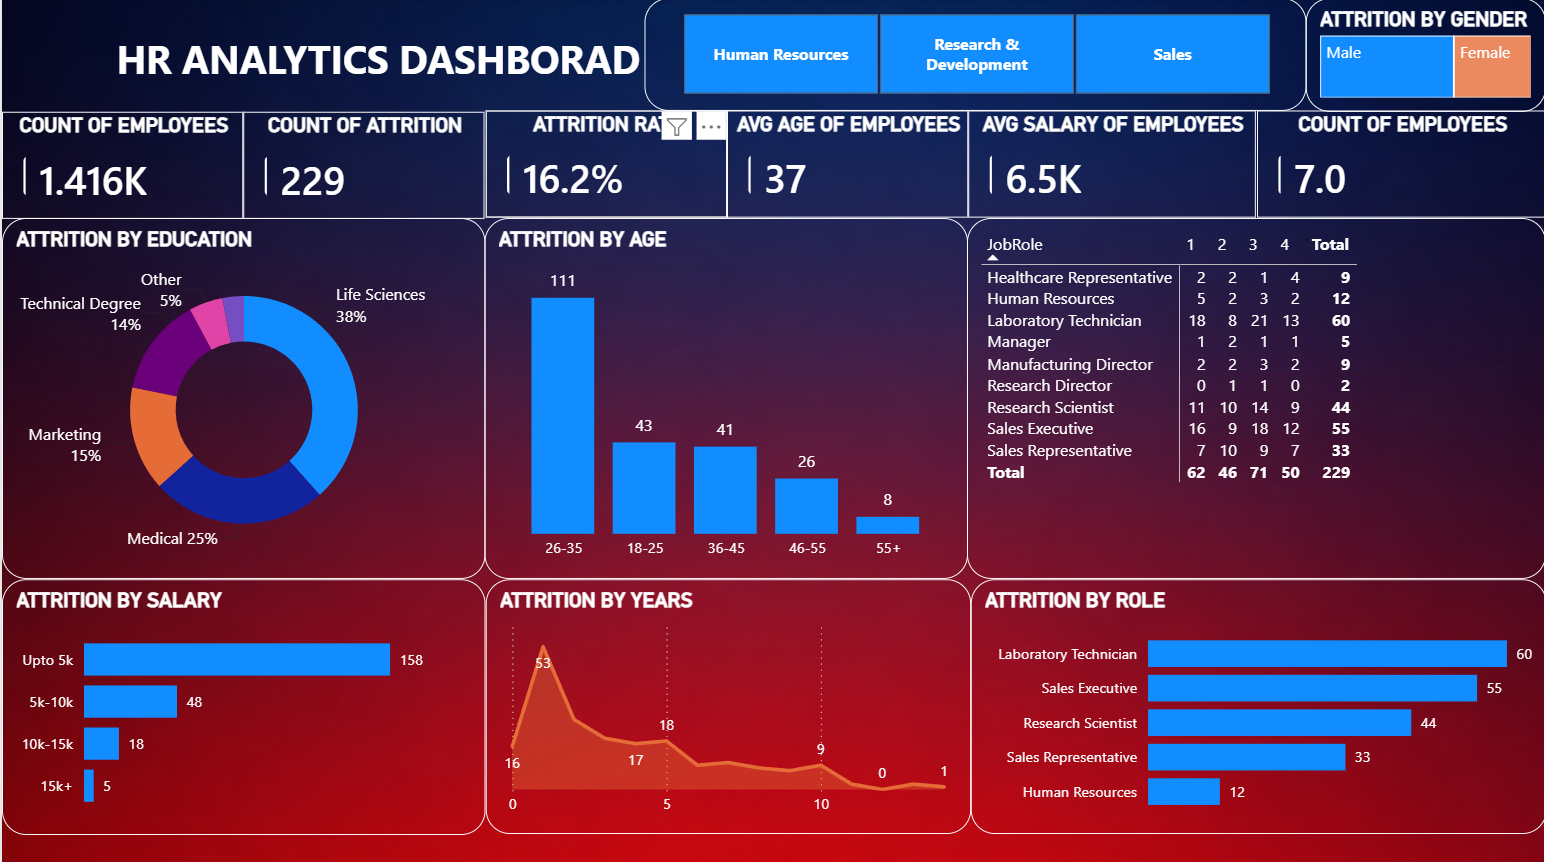

What the dashboard file says about the page in this screenshot:
{"tool":"powerbi","page":{"name":"Page 1","canvas":[1280,720],"ordinal":0},"visuals":[{"type":"cardVisual","title":"COUNT OF EMPLOYEES","fields":{"Data":["CountNonNull(HR_Analytics.EmpID)"]},"box":[0,94.7,200.3,89.2],"z":0},{"type":"cardVisual","title":"COUNT OF ATTRITION","fields":{"Data":["Sum(HR_Analytics.AttritionCount)"]},"box":[200.3,94.7,200.3,89.2],"z":1000},{"type":"cardVisual","title":"ATTRITION RATE","fields":{"Data":["HR_Analytics.AttritionRate"]},"box":[400.7,93.4,200.3,89.2],"z":2000},{"type":"cardVisual","title":"AVG AGE OF EMPLOYEES","fields":{"Data":["Avg(HR_Analytics.Age)"]},"box":[601,93.4,200.3,89.2],"z":3000},{"type":"cardVisual","title":"AVG SALARY OF EMPLOYEES","fields":{"Data":["Avg(HR_Analytics.MonthlyIncome)"]},"box":[801.4,93.4,238.8,89.2],"z":4000},{"type":"cardVisual","title":"COUNT OF EMPLOYEES","fields":{"Data":["Avg(HR_Analytics.YearsAtCompany)"]},"box":[1040.1,93.4,240.1,89.2],"z":5000},{"type":"donutChart","title":"ATTRITION BY EDUCATION","fields":{"Category":["HR_Analytics.EducationField"],"Y":["Sum(HR_Analytics.AttritionCount)"]},"box":[0,182.8,401.2,298.8],"z":6000},{"type":"columnChart","title":"ATTRITION BY AGE","fields":{"Category":["HR_Analytics.AgeGroup"],"Y":["Sum(HR_Analytics.AttritionCount)"]},"box":[400,182.6,401.2,298.8],"z":7000},{"type":"pivotTable","fields":{"Rows":["HR_Analytics.JobRole"],"Columns":["HR_Analytics.JobSatisfaction"],"Values":["Sum(HR_Analytics.AttritionCount)"]},"box":[800,182.5,480.3,299.1],"z":8000},{"type":"clusteredBarChart","title":"ATTRITION BY SALARY","fields":{"Category":["HR_Analytics.SalarySlab"],"Y":["Sum(HR_Analytics.AttritionCount)"]},"box":[0,481.4,401.2,211.6],"z":9000},{"type":"clusteredBarChart","title":"ATTRITION BY ROLE","fields":{"Y":["Sum(HR_Analytics.AttritionCount)"],"Category":["HR_Analytics.JobRole"]},"box":[802.7,481.6,477.5,211.3],"z":10000},{"type":"areaChart","title":"ATTRITION BY YEARS","fields":{"Category":["HR_Analytics.YearsAtCompany"],"Y":["Sum(HR_Analytics.AttritionCount)"]},"box":[400.7,481.6,402.1,211.3],"z":11000},{"type":"treemap","title":"ATTRITION BY GENDER","fields":{"Group":["HR_Analytics.Gender"],"Values":["Sum(HR_Analytics.AttritionCount)"]},"box":[1081.3,0,199,94.7],"z":12000},{"type":"slicer","fields":{"Values":["HR_Analytics.Department"]},"box":[532.4,0,548.9,93.3],"z":13000},{"type":"textbox","box":[11,23.3,601,115.3],"z":13001}]}

Visuals, with their boxes in screenshot pixels (x1, y1, x2, y2), scaled from the page's 1280x720 canvas onto the 1544x862 screenshot:
"COUNT OF EMPLOYEES" cardVisual: BBox(0, 113, 242, 220)
"COUNT OF ATTRITION" cardVisual: BBox(242, 113, 483, 220)
"ATTRITION RATE" cardVisual: BBox(483, 112, 725, 219)
"AVG AGE OF EMPLOYEES" cardVisual: BBox(725, 112, 967, 219)
"AVG SALARY OF EMPLOYEES" cardVisual: BBox(967, 112, 1255, 219)
"COUNT OF EMPLOYEES" cardVisual: BBox(1255, 112, 1543, 219)
"ATTRITION BY EDUCATION" donutChart: BBox(0, 219, 484, 577)
"ATTRITION BY AGE" columnChart: BBox(482, 219, 966, 576)
pivotTable - HR_Analytics.JobRole x HR_Analytics.JobSatisfaction: BBox(965, 218, 1543, 577)
"ATTRITION BY SALARY" clusteredBarChart: BBox(0, 576, 484, 830)
"ATTRITION BY ROLE" clusteredBarChart: BBox(968, 577, 1543, 830)
"ATTRITION BY YEARS" areaChart: BBox(483, 577, 968, 830)
"ATTRITION BY GENDER" treemap: BBox(1304, 0, 1543, 113)
slicer - HR_Analytics.Department: BBox(642, 0, 1304, 112)
textbox: BBox(13, 28, 738, 166)
